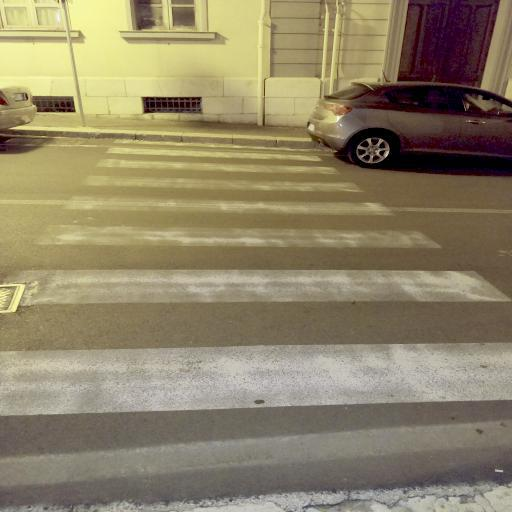crosswalk: (26, 192, 458, 256)
